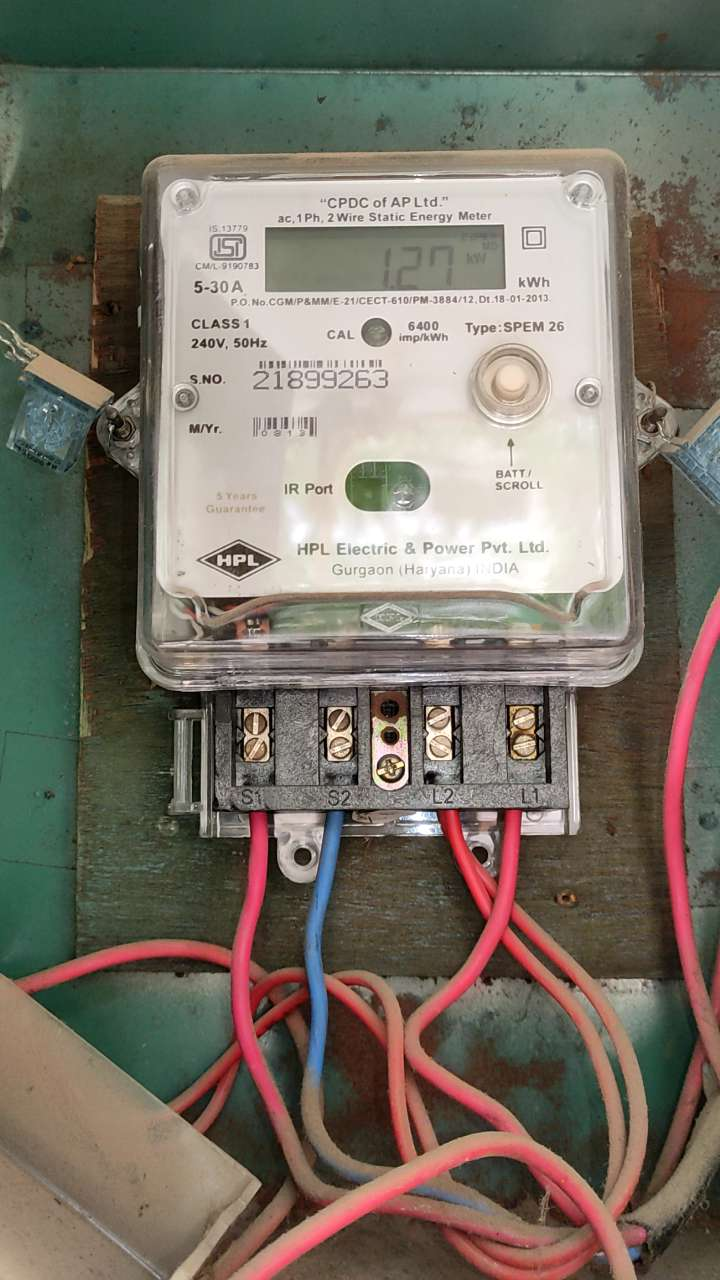meter_serial_number: (249, 365, 399, 392)
